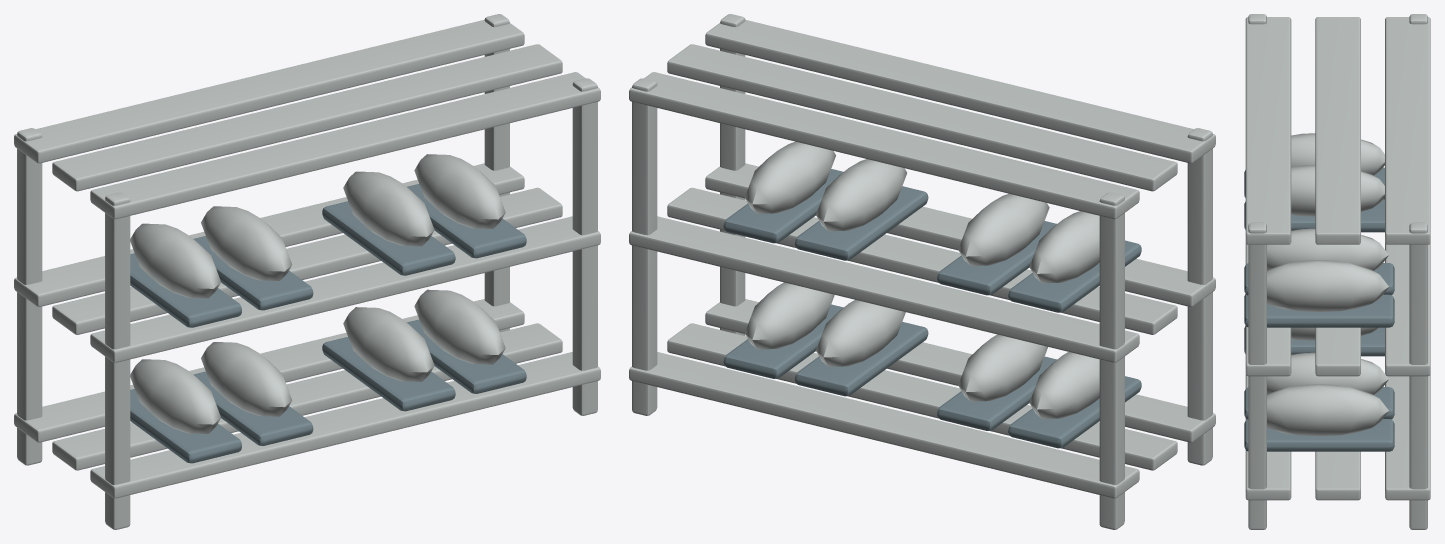
The model's file is shoe-rack.glb.
The picture shows the model from 3 angles, left to right: view 1: azimuth 30°, elevation 25°; view 2: azimuth 150°, elevation 25°; view 3: azimuth 270°, elevation 25°; orthographic projection. The views are drawn at different scales.
Visible parts, largest first — view 1: shelf_slat.007, shelf_slat.006, shelf_slat.008, shelf_slat.005, shelf_slat.002, rack_leg.001, rack_leg.003, rack_leg, shelf_slat.001, shelf_slat.004, shelf_slat.003, shelf_slat (+17 smaller); view 2: shelf_slat.007, shelf_slat.008, shelf_slat.006, shelf_slat, shelf_slat.003, shelf_slat.004, shelf_slat.001, rack_leg, rack_leg.002, rack_leg.001, shelf_slat.005, shelf_slat.002 (+17 smaller); view 3: shelf_slat.007, shelf_slat.008, shelf_slat.006, shoe_upper.007, shoe_upper.003, rack_leg.003, rack_leg.002, shelf_slat.003, shelf_slat, shoe_upper.006, shoe_sole.007, shoe_sole.003 (+12 smaller).
Part boxes in pixels (x1,y1,x2,y2): shelf_slat.007: [52, 44, 562, 191]; shelf_slat.006: [14, 19, 524, 163]; shelf_slat.008: [90, 72, 600, 219]; shelf_slat.005: [90, 216, 600, 362]; shelf_slat.002: [90, 352, 600, 498]; rack_leg.001: [105, 192, 130, 529]; rack_leg.003: [572, 78, 597, 415]; rack_leg: [17, 128, 42, 465]; shelf_slat.001: [52, 323, 562, 470]; shelf_slat.004: [52, 187, 562, 334]; shelf_slat.003: [14, 163, 524, 306]; shelf_slat: [14, 299, 524, 442]; shelf_slat.007: [667, 44, 1177, 191]; shelf_slat.008: [705, 19, 1215, 163]; shelf_slat.006: [629, 72, 1139, 219]; shelf_slat: [629, 352, 1139, 498]; shelf_slat.003: [629, 216, 1139, 362]; shelf_slat.004: [667, 187, 1177, 334]; shelf_slat.001: [667, 323, 1177, 470]; rack_leg: [1099, 192, 1124, 529]; rack_leg.002: [632, 78, 657, 415]; rack_leg.001: [1187, 128, 1212, 465]; shelf_slat.005: [705, 163, 1215, 306]; shelf_slat.002: [705, 299, 1215, 442]; shelf_slat.007: [1315, 17, 1360, 244]; shelf_slat.008: [1245, 17, 1291, 244]; shelf_slat.006: [1385, 17, 1430, 244]; shoe_upper.007: [1267, 260, 1388, 311]; shoe_upper.003: [1267, 384, 1388, 436]; rack_leg.003: [1248, 222, 1266, 529]; rack_leg.002: [1409, 222, 1427, 529]; shelf_slat.003: [1385, 242, 1430, 376]; shelf_slat: [1385, 374, 1430, 500]; shoe_upper.006: [1267, 228, 1388, 270]; shoe_sole.007: [1244, 294, 1394, 327]; shoe_sole.003: [1244, 419, 1394, 451].
Size of the model in its own units: 0.96 by 0.62 by 0.3475.
